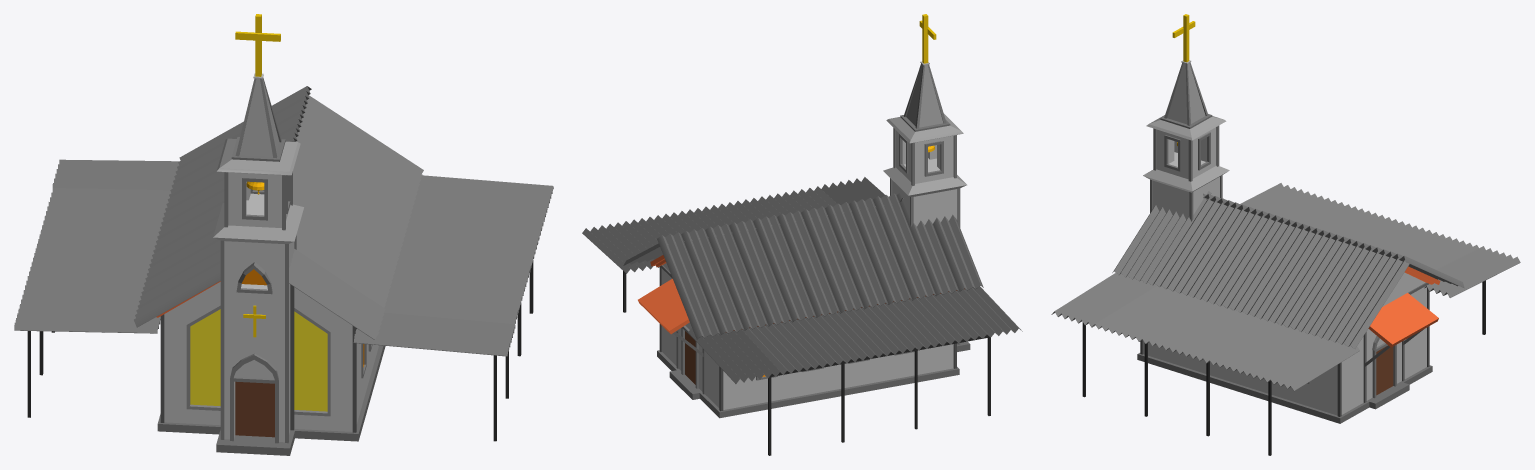
Rendered from gereja.fbx.
3 views of the same model, side by side, from view 1: azimuth 30°, elevation 25°; view 2: azimuth 150°, elevation 25°; view 3: azimuth 270°, elevation 25° (orthographic). The views are drawn at different scales.
Parts seen in each view (by area): view 1: Cube.143, church, Cube.144; view 2: Cube.143, church, Cube.144; view 3: Cube.143, church, Cube.144.
Boxes of the visible parts, left/top/right/bottom form: Cube.143: left=14, top=86, right=553, bottom=356; church: left=156, top=14, right=385, bottom=455; Cube.144: left=27, top=260, right=533, bottom=441; Cube.143: left=582, top=177, right=1022, bottom=383; church: left=638, top=14, right=970, bottom=418; Cube.144: left=623, top=271, right=990, bottom=455; Cube.143: left=1051, top=183, right=1520, bottom=390; church: left=1137, top=14, right=1440, bottom=423; Cube.144: left=1082, top=280, right=1485, bottom=455.
Bounding box in the file's own units: 2911 × 2119 × 2823.
